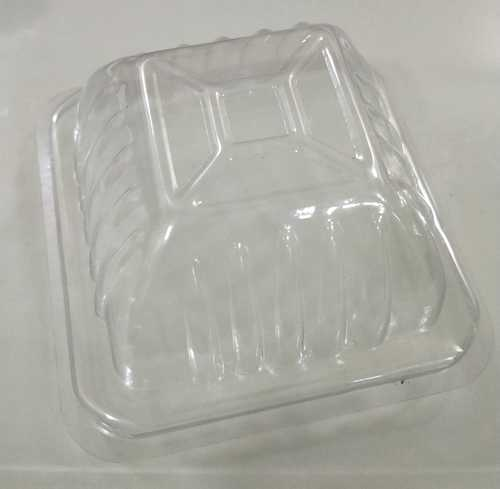PlasticBox: (29, 17, 500, 467)
